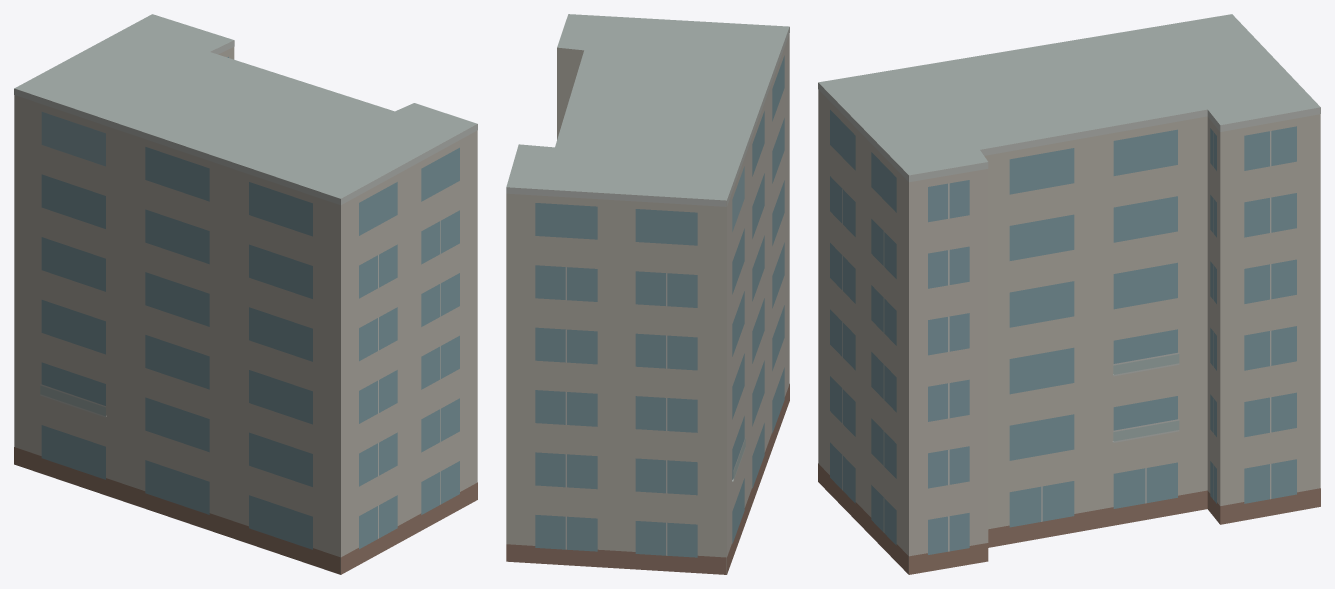
The model's file is survey-upis-32894158.glb.
3 renders of one model, left to right at view 1: azimuth 30°, elevation 25°; view 2: azimuth 150°, elevation 25°; view 3: azimuth 270°, elevation 25°, orthographic. The views are drawn at different scales.
Visible parts, largest first — view 1: survey-upis-32894158.tmp; view 2: survey-upis-32894158.tmp; view 3: survey-upis-32894158.tmp.
Boxes of the visible parts, x1,y1,x2,y2 form: survey-upis-32894158.tmp: (14, 14, 477, 574); survey-upis-32894158.tmp: (506, 14, 789, 574); survey-upis-32894158.tmp: (818, 14, 1320, 574).
Bounding box in the file's own units: 12.36 × 14.25 × 16.26.
